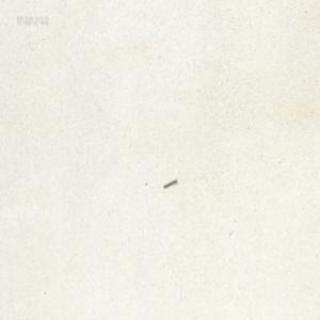Bolttrack_idkeyframe: (162, 176, 176, 187)
